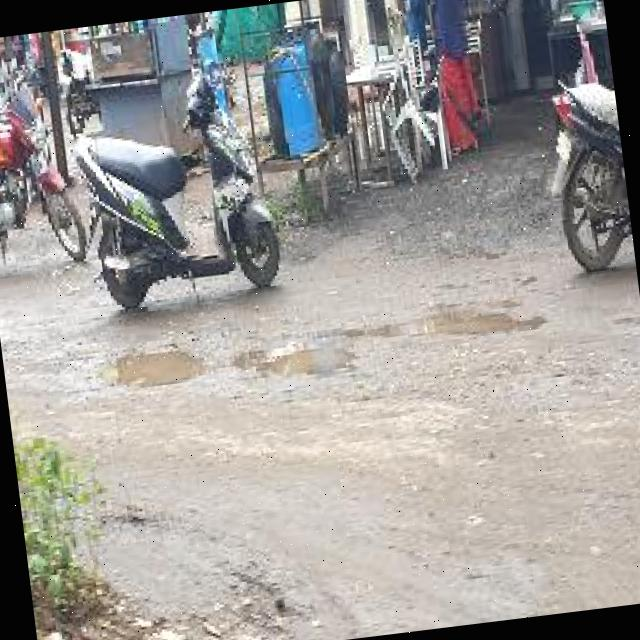stagnation: (363, 285, 564, 374), (220, 324, 367, 400), (98, 328, 217, 404)
